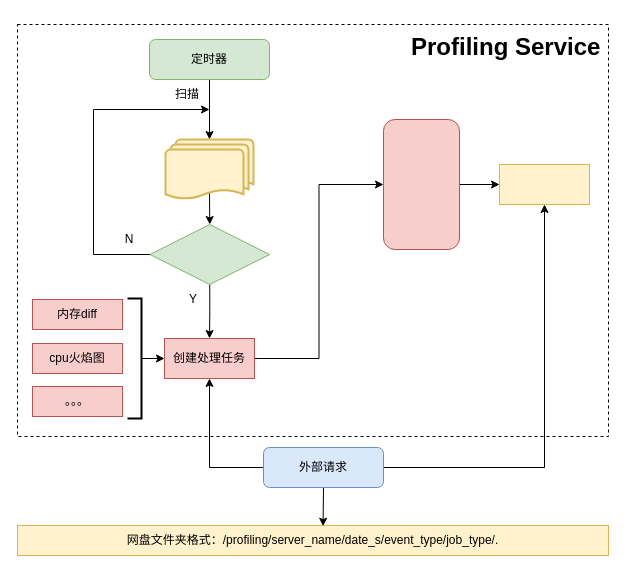
This 626x573 diagram has some shape labels left out. Here are the shapes that lost their labels. From the top down, the centre of each, then its label:
(209,169): 网盘文件夹
(421,184): 任务队列
(544,184): 生成分析文件
(209,254): 是否需要处理
